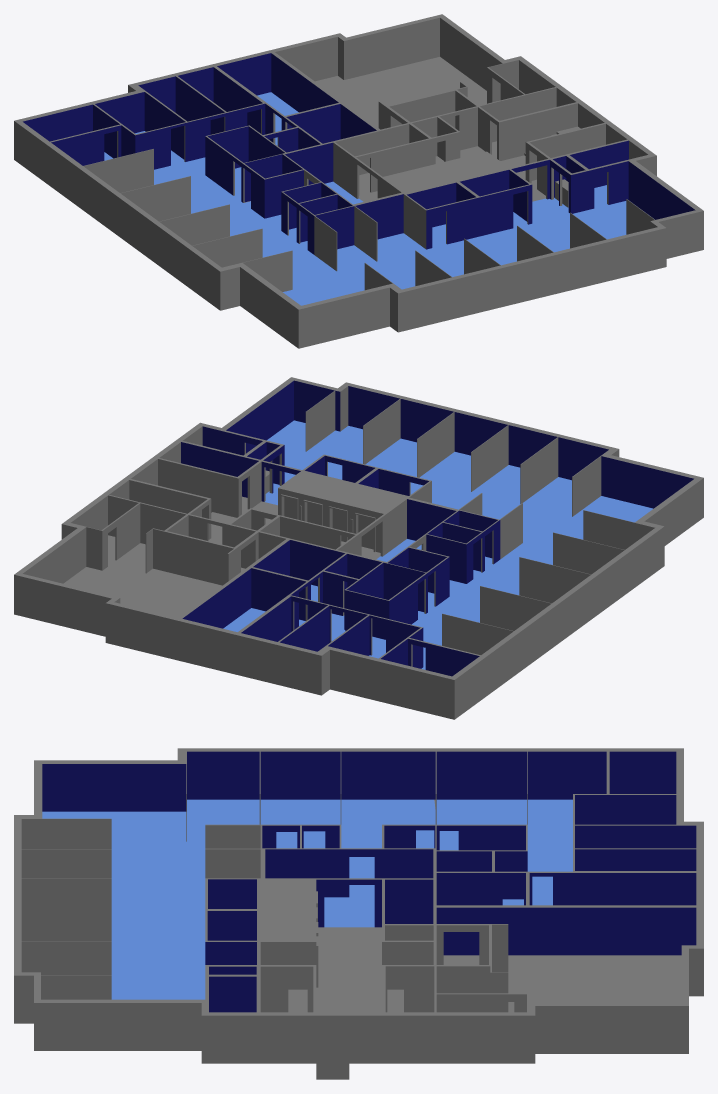
The model's file is teachingnresearch.gltf.
The picture shows the model from 3 angles, top to bottom: view 1: azimuth 30°, elevation 25°; view 2: azimuth 150°, elevation 25°; view 3: azimuth 270°, elevation 25°; orthographic projection. The views are drawn at different scales.
Visible parts, largest first — view 1: root; view 2: root; view 3: root.
Boxes of the visible parts, x1,y1,x2,y2 form: root: (14,14,703,348); root: (14,377,703,719); root: (14,748,703,1079).
Size of the model in its own units: 41.62 by 4.88 by 45.42.
